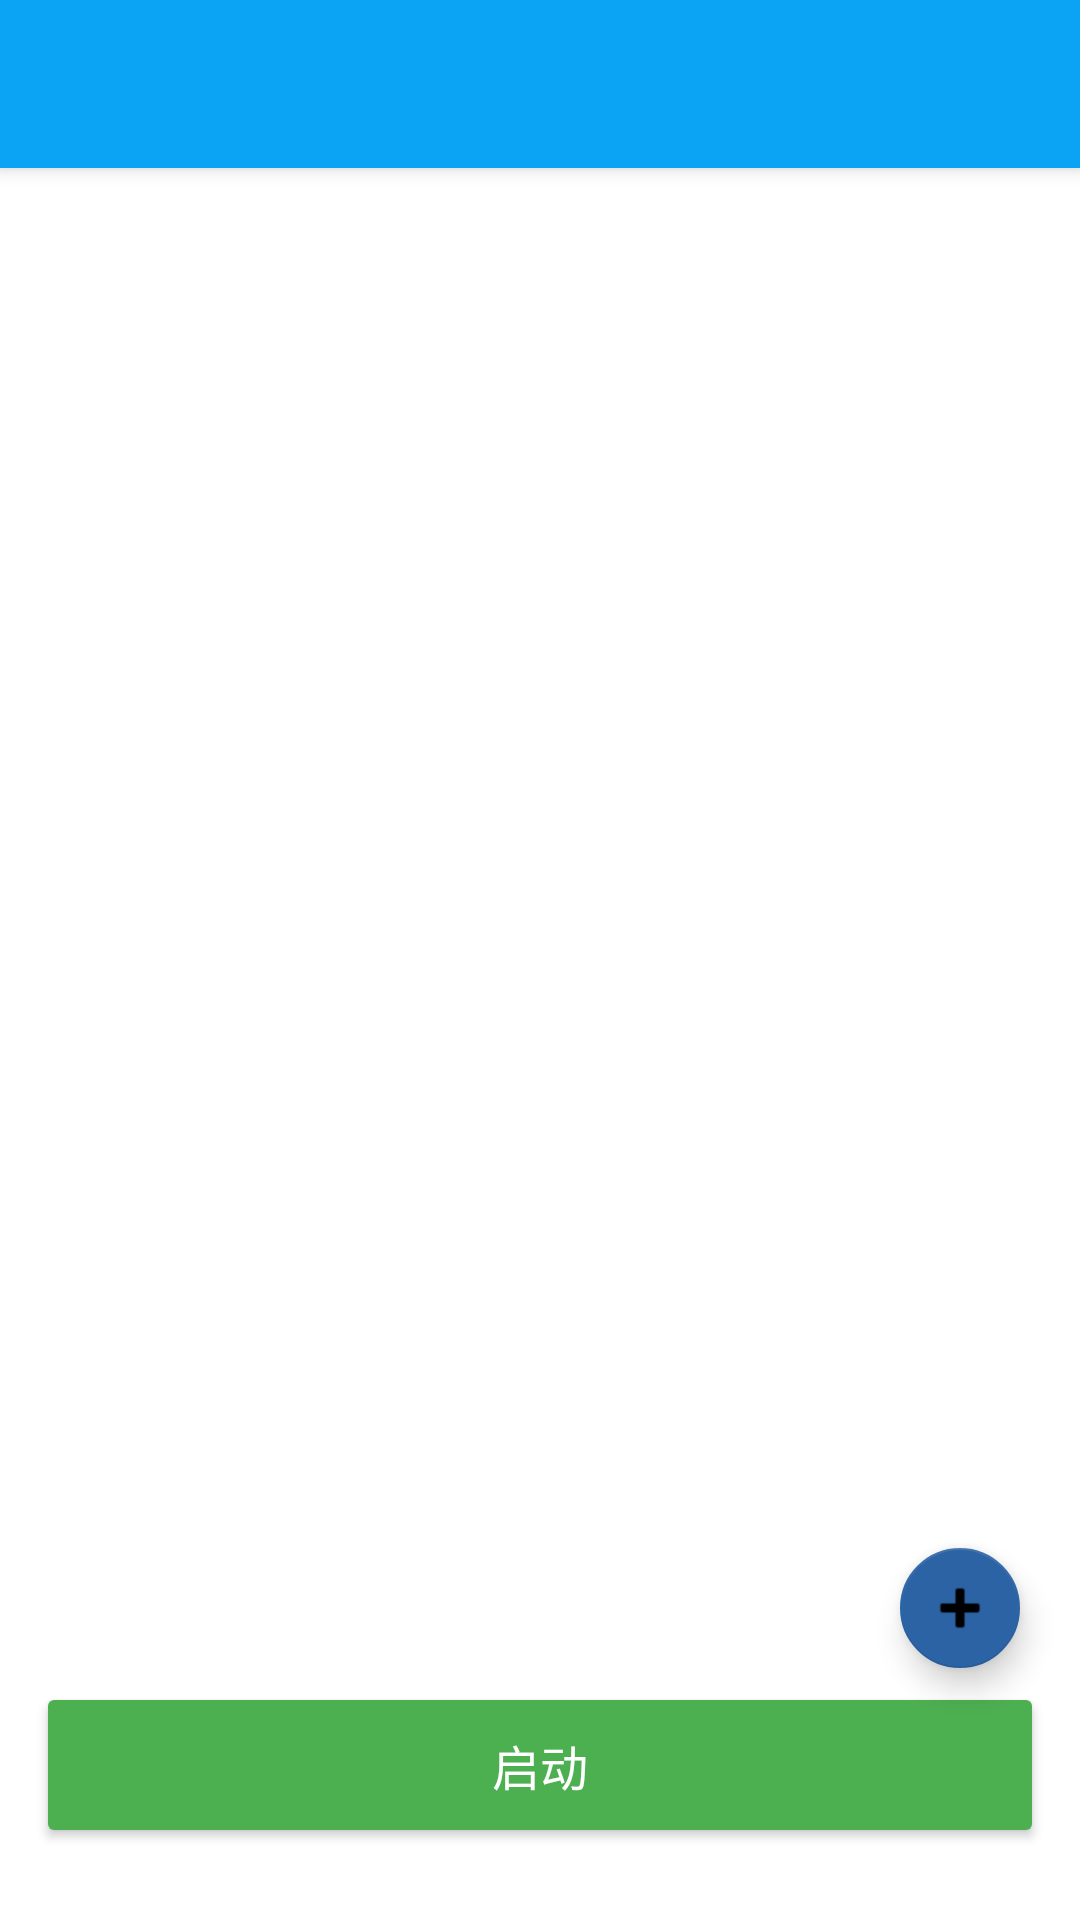

Named icons in this screenshot (1080 × 1920) and their bounding boxes, (x1, y1, x2, y2):
add: (900, 1548, 1023, 1680)
